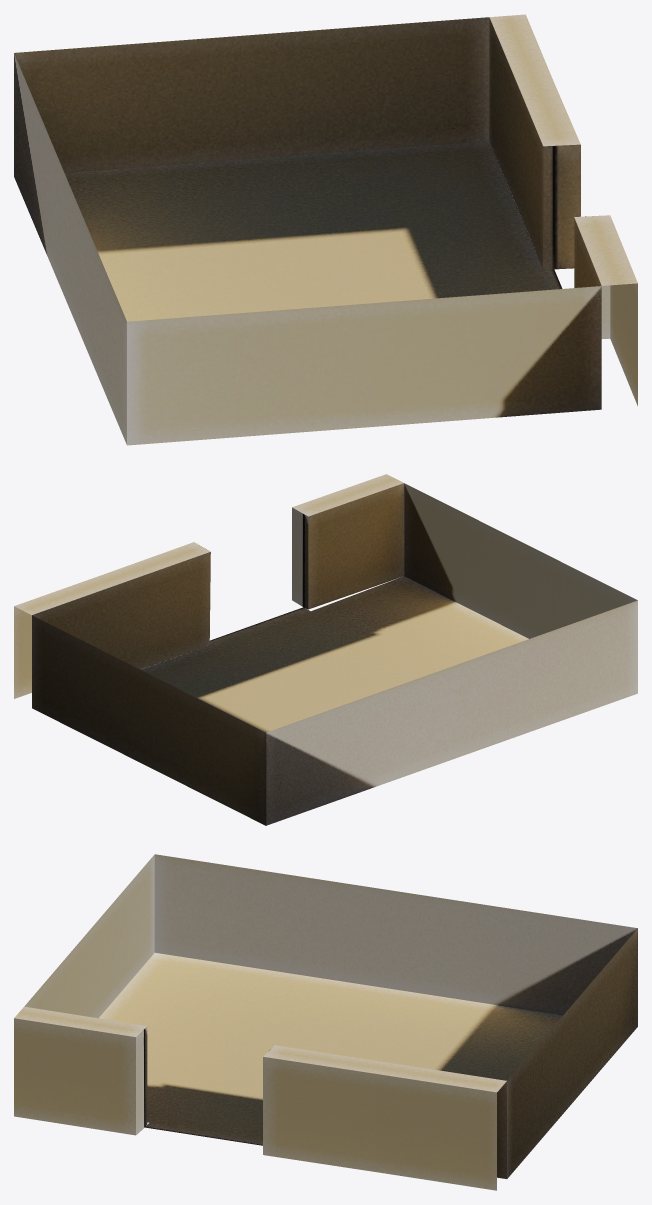
The model's file is Building_05_LV03_Walls_App_03.fbx.
3 renders of one model, top to bottom at view 1: azimuth 30°, elevation 25°; view 2: azimuth 150°, elevation 25°; view 3: azimuth 270°, elevation 25°, orthographic. The views are drawn at different scales.
Parts seen in each view (by area): view 1: Building_05_LV03_Walls_App_03; view 2: Building_05_LV03_Walls_App_03; view 3: Building_05_LV03_Walls_App_03.
Part boxes in pixels (left/top/right/bottom): Building_05_LV03_Walls_App_03: left=14, top=14, right=637, bottom=445; Building_05_LV03_Walls_App_03: left=14, top=474, right=637, bottom=825; Building_05_LV03_Walls_App_03: left=14, top=854, right=637, bottom=1190.
Size of the model in its own units: 7.72 by 1.49 by 8.54.
1 material, 1 textured.
